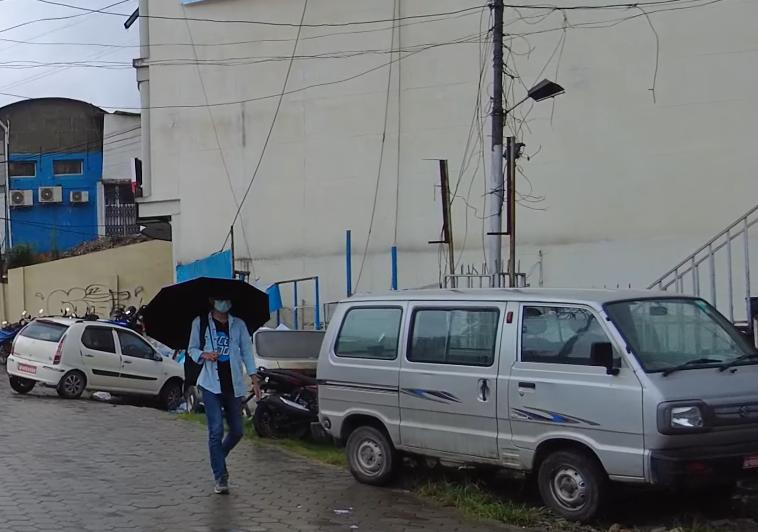car: (6, 311, 188, 417)
van: (296, 281, 758, 510)
